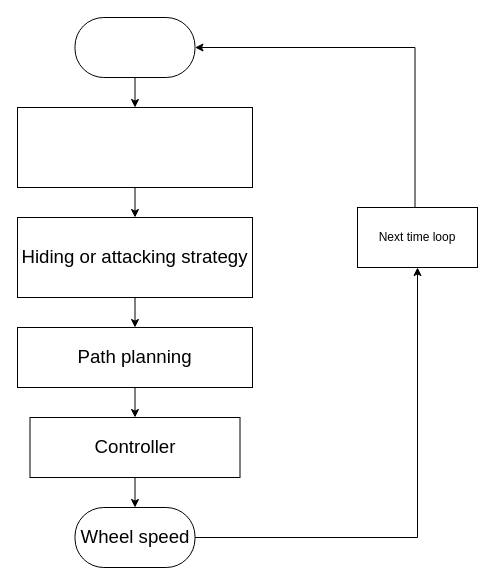
The diagram is 495 pixels wide and 585 high, and some of its shapes have lost their labels. The box of each missing label's shape, as (x1, y1, x2, y2) in pixels:
Image Processing: (16, 106, 252, 188)
Input image: (74, 16, 195, 78)
